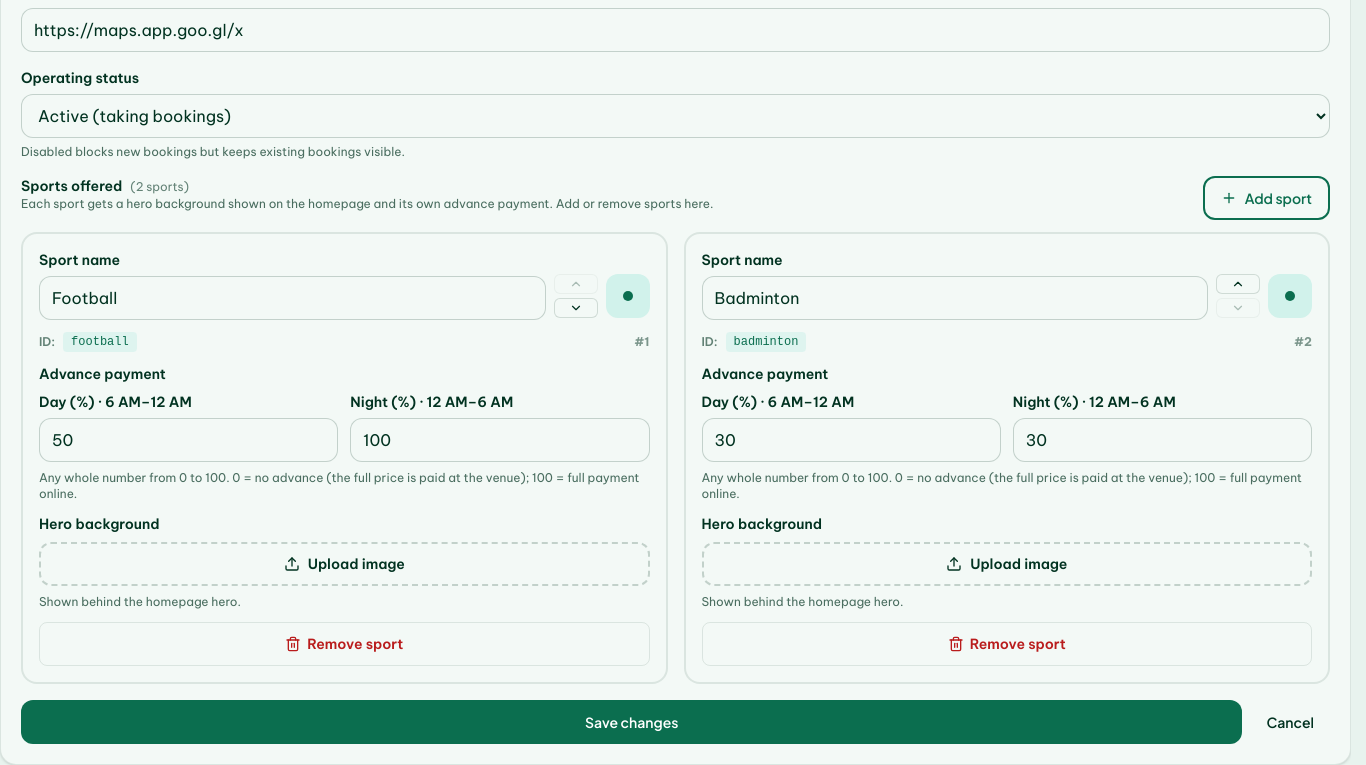
Venue tab: sport-wise advance › refuses  before saving
The width and height of the screenshot is (1366, 765).
(page scrolled)
Clear the number field labelled "Night (%) · 12 AM–6 AM" below "football" at (500, 440), box 350,418 -> 650,462
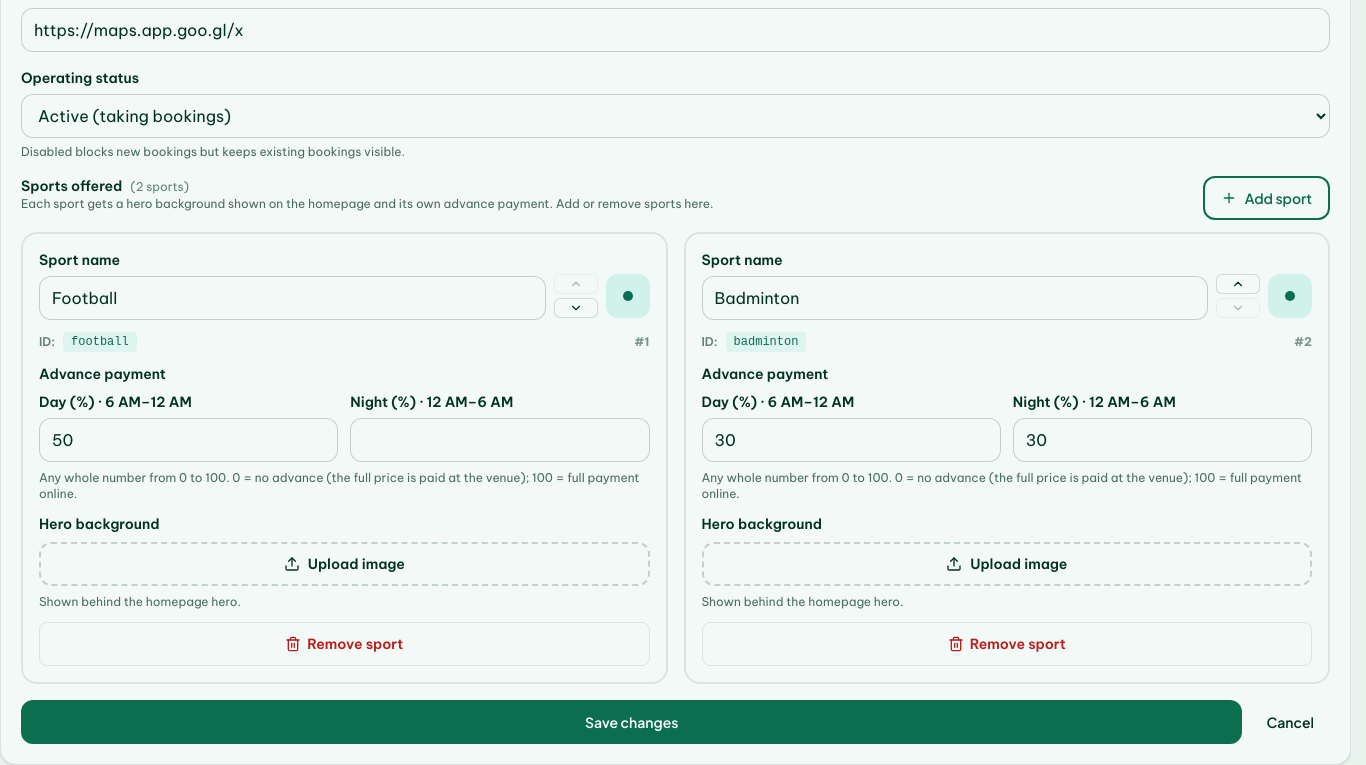
Click the button "Save changes" at (632, 722), box 21,700 -> 1242,744
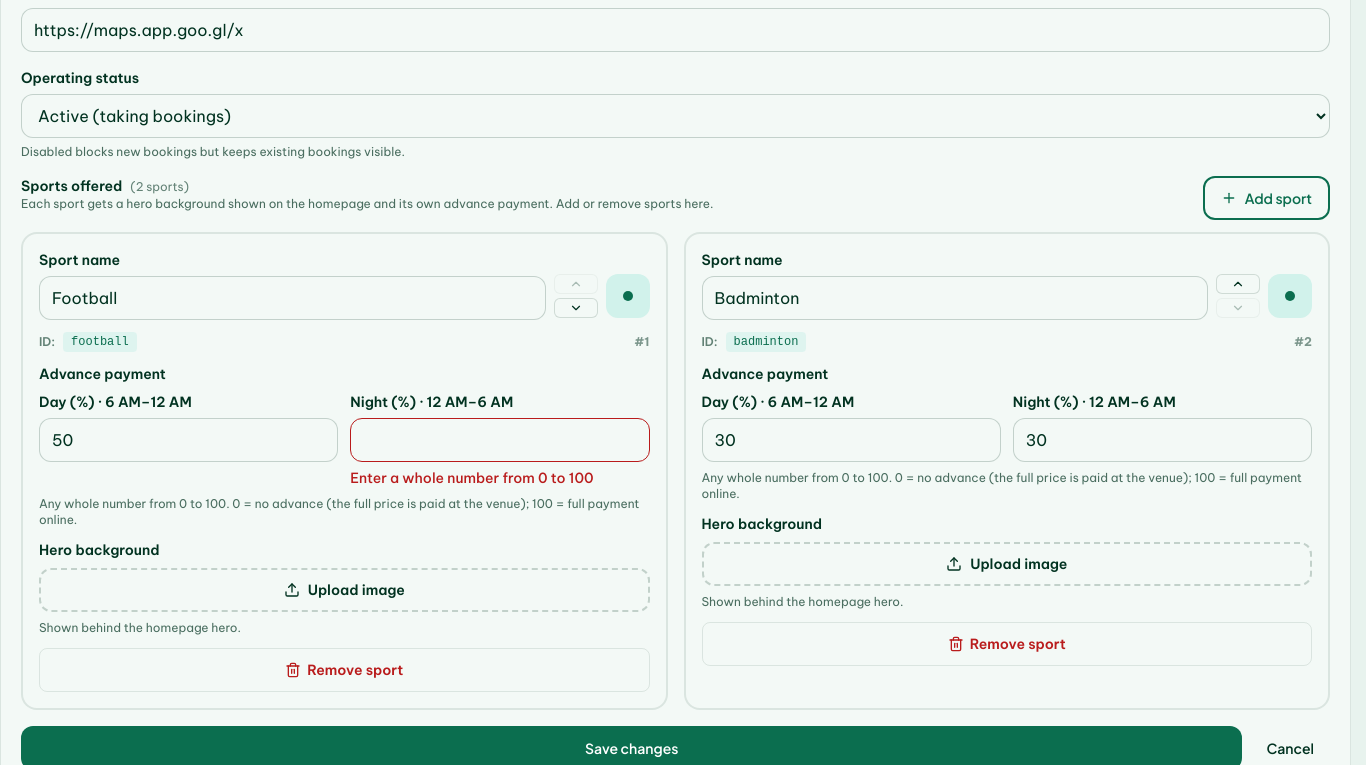
Now the text "Enter a whole number from 0 to 100" is shown, box 350,469 -> 594,487
